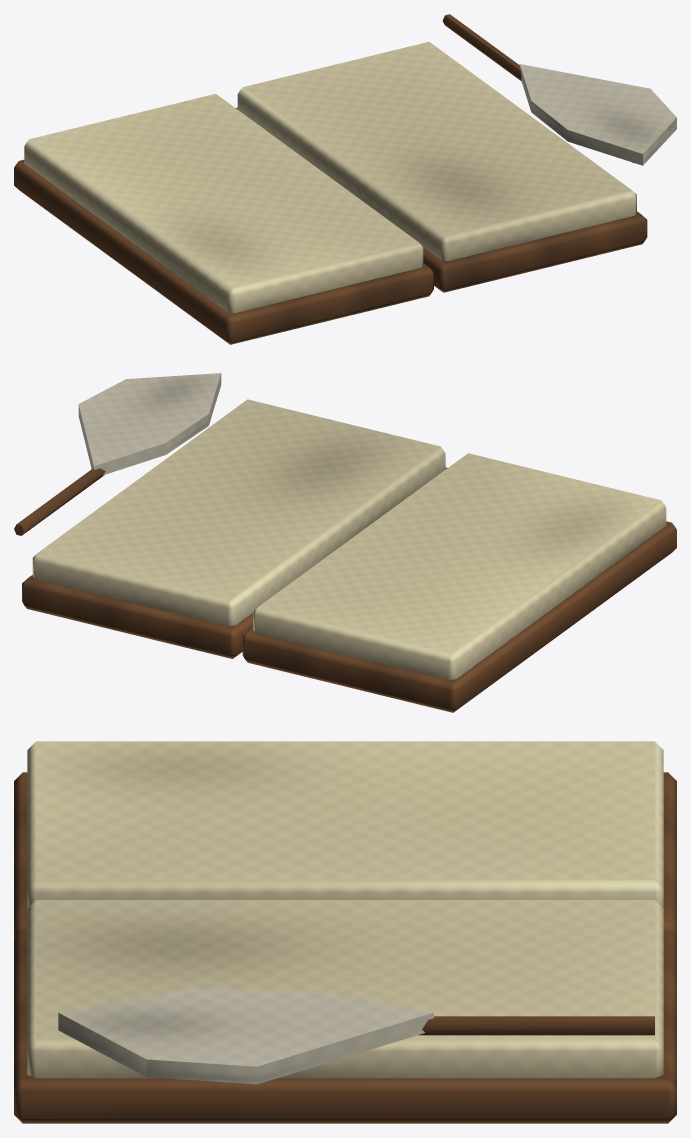
File: Hold_Notebook.fbx
3 renders of one model, top to bottom at view 1: azimuth 30°, elevation 25°; view 2: azimuth 150°, elevation 25°; view 3: azimuth 270°, elevation 25°, orthographic. The views are drawn at different scales.
Parts seen in each view (by area): view 1: Hold_Notebook; view 2: Hold_Notebook; view 3: Hold_Notebook.
Boxes of the visible parts, x1,y1,x2,y2 form: Hold_Notebook: (14, 14, 676, 344); Hold_Notebook: (14, 373, 676, 712); Hold_Notebook: (14, 741, 676, 1123).
Bounding box in the file's own units: 0.2 × 0.03 × 0.15.
1 material, 1 textured.
